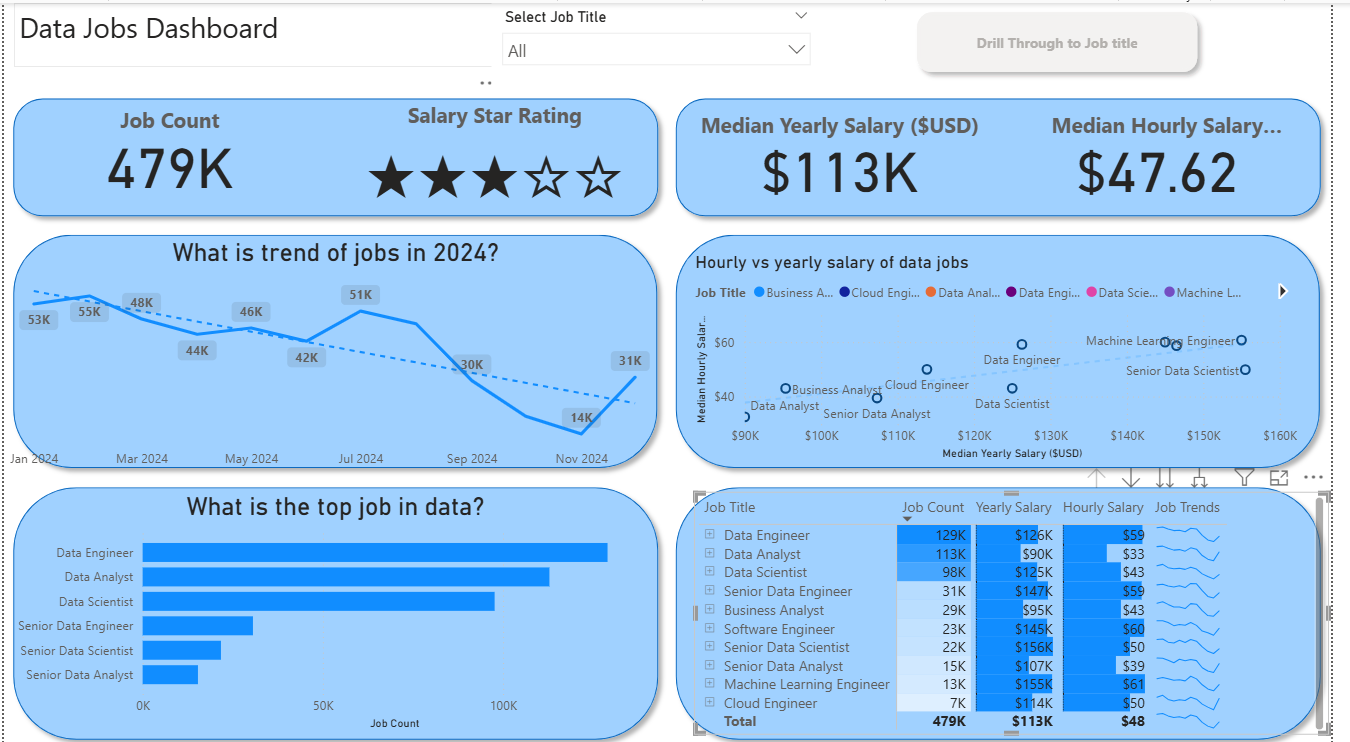

Layout of this report page (visuals, bound fields, positions):
{"tool":"powerbi","page":{"name":"Data Jobs Dashboard","canvas":[1280,720],"ordinal":0},"visuals":[{"type":"group","id":"g1","title":"Group 1","box":[0,83.5,1280,636.2],"z":0},{"type":"shape","box":[0,83.5,640.4,131.6],"z":0,"group":"g1"},{"type":"textbox","box":[10.1,0,474.2,61.6],"z":1000},{"type":"shape","box":[639.6,83.5,640.4,131.6],"z":1000,"group":"g1"},{"type":"slicer","fields":{"Values":["job_postings_flat.job_title_short"]},"box":[470,0,318.1,83.5],"z":2000},{"type":"shape","box":[0,215.1,639.6,243],"z":2000,"group":"g1"},{"type":"cardVisual","fields":{"Data":["Median(job_postings_flat.salary_year_avg)"]},"box":[640.4,83.5,332.4,131.6],"z":3000},{"type":"shape","box":[639.6,215.1,639.6,243],"z":3000,"group":"g1"},{"type":"cardVisual","fields":{"Data":["Median(job_postings_flat.salary_hour_avg)"]},"box":[947.6,83.5,332.4,131.6],"z":4000},{"type":"shape","box":[0,458.1,640.4,261.6],"z":4000,"group":"g1"},{"type":"cardVisual","fields":{"Data":["job_postings_flat.Salary Star Rating"]},"box":[308,83.5,332.4,131.6],"z":5000},{"type":"shape","box":[639.6,458.1,640.4,261.6],"z":5000,"group":"g1"},{"type":"cardVisual","fields":{"Data":["CountNonNull(job_postings_flat.job_title_short)"]},"box":[0,83.4,320,122.6],"z":6000},{"type":"lineChart","title":"What is trend of jobs in 2024?","fields":{"Category":["job_postings_flat.job_posted_date.Variation.Date Hierarchy.Year","job_postings_flat.job_posted_date.Variation.Date Hierarchy.Quarter","job_postings_flat.job_posted_date.Variation.Date Hierarchy.Month","job_postings_flat.job_posted_date.Variation.Date Hierarchy.Day"],"Y":["CountNonNull(job_postings_flat.job_title_short)"]},"box":[0,227,640.4,231.2],"z":7000},{"type":"barChart","title":"What is the top job in data?","fields":{"Category":["job_postings_flat.job_title_short"],"Y":["CountNonNull(job_postings_flat.job_title_short)"]},"box":[0,471.4,640,234.7],"z":8000},{"type":"scatterChart","title":"Hourly vs yearly salary of data jobs","fields":{"X":["Median(job_postings_flat.salary_year_avg)"],"Y":["Median(job_postings_flat.salary_hour_avg)"],"Series":["job_postings_flat.job_title_short"]},"box":[662,239.5,591.1,206],"z":9000},{"type":"pivotTable","fields":{"Rows":["job_postings_flat.job_title_short","job_postings_flat.job_posted_date.Variation.Date Hierarchy.Quarter"],"Values":["CountNonNull(job_postings_flat.job_title_short)","Median(job_postings_flat.salary_year_avg)","Median(job_postings_flat.salary_hour_avg)","SparklineData(CountNonNull(job_postings_flat.job_title_short)_[job_postings_flat.job_posted_date.Variation.Date Hierarch"]},"box":[665.9,471.4,613.2,234.7],"z":10000},{"type":"actionButton","box":[872.8,0,288.4,75.7],"z":11000}]}

Visuals, with their boxes in screenshot pixels (x1, y1, x2, y2), scaled from the page's 1280x720 canvas onto the 1350x742 screenshot:
"Group 1" group: [left=0, top=86, right=1349, bottom=741]
shape: [left=0, top=86, right=675, bottom=222]
textbox: [left=11, top=0, right=511, bottom=63]
shape: [left=675, top=86, right=1349, bottom=222]
slicer - job_postings_flat.job_title_short: [left=496, top=0, right=831, bottom=86]
shape: [left=0, top=222, right=675, bottom=472]
cardVisual - Median(job_postings_flat.salary_year_avg): [left=675, top=86, right=1026, bottom=222]
shape: [left=675, top=222, right=1349, bottom=472]
cardVisual - Median(job_postings_flat.salary_hour_avg): [left=999, top=86, right=1349, bottom=222]
shape: [left=0, top=472, right=675, bottom=741]
cardVisual - job_postings_flat.Salary Star Rating: [left=325, top=86, right=675, bottom=222]
shape: [left=675, top=472, right=1349, bottom=741]
cardVisual - CountNonNull(job_postings_flat.job_title_short): [left=0, top=86, right=338, bottom=212]
"What is trend of jobs in 2024?" lineChart: [left=0, top=234, right=675, bottom=472]
"What is the top job in data?" barChart: [left=0, top=486, right=675, bottom=728]
"Hourly vs yearly salary of data jobs" scatterChart: [left=698, top=247, right=1322, bottom=459]
pivotTable - job_postings_flat.job_title_short x job_postings_flat.job_posted_date.Variation.Date Hierarchy.Quarter: [left=702, top=486, right=1349, bottom=728]
actionButton: [left=921, top=0, right=1225, bottom=78]
